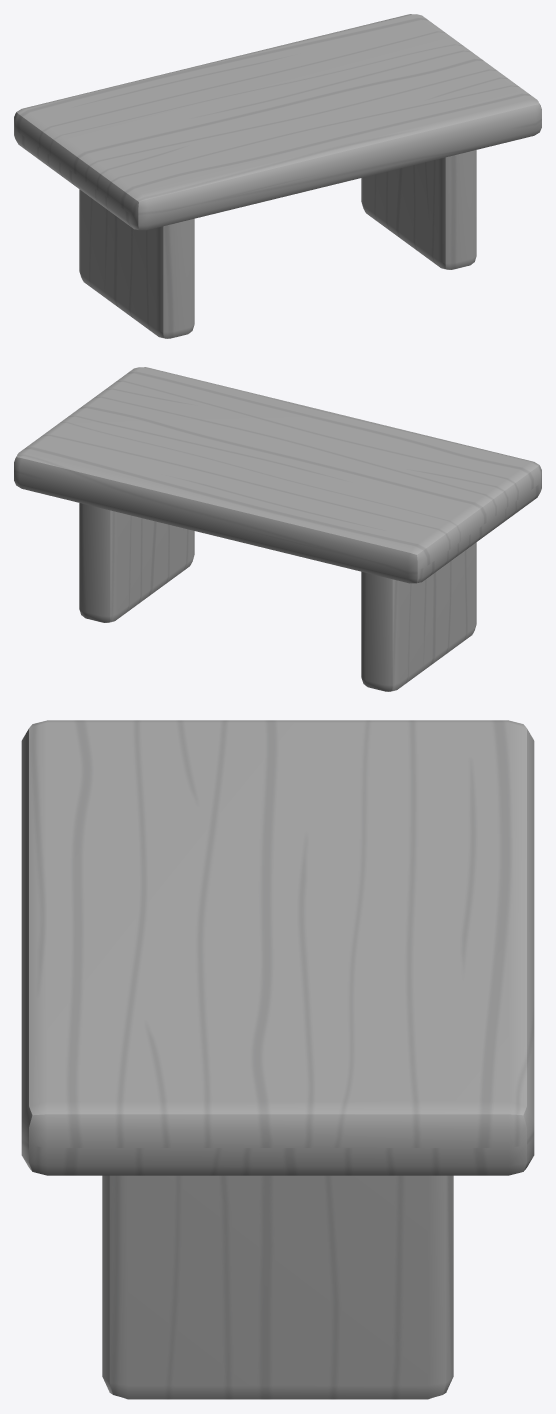
Rendered from Desk.fbx.
The picture shows the model from 3 angles, top to bottom: view 1: azimuth 30°, elevation 25°; view 2: azimuth 150°, elevation 25°; view 3: azimuth 270°, elevation 25°; orthographic projection. The views are drawn at different scales.
Parts seen in each view (by area): view 1: Desk; view 2: Desk; view 3: Desk.
Part boxes in pixels (left/top/right/bottom): Desk: left=14, top=14, right=541, bottom=338; Desk: left=14, top=367, right=541, bottom=691; Desk: left=21, top=720, right=534, bottom=1399.
Size of the model in its own units: 11.62 by 4.62 by 6.29.
